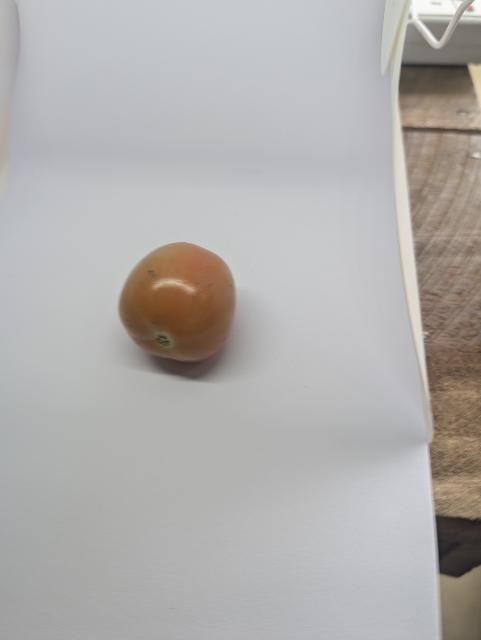turning: (113, 236, 250, 375)
